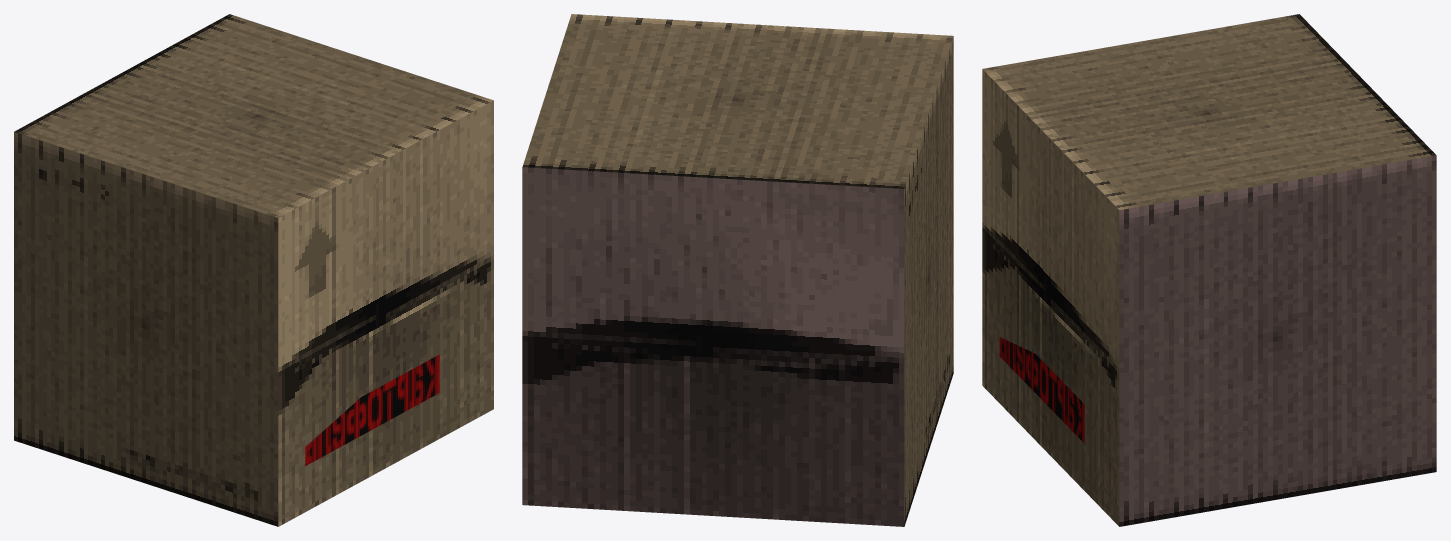
The model's file is primary_127.glb.
3 renders of one model, left to right at view 1: azimuth 30°, elevation 25°; view 2: azimuth 150°, elevation 25°; view 3: azimuth 270°, elevation 25°, orthographic. The views are drawn at different scales.
Parts seen in each view (by area): view 1: Object; view 2: Object; view 3: Object.
Part boxes in pixels (x1,y1,x2,y2): Object: [14, 14, 493, 526]; Object: [522, 14, 953, 526]; Object: [982, 14, 1436, 526].
Size of the model in its own units: 1.45 by 1.09 by 1.42.
Materials: 7 (7 with a texture image).
